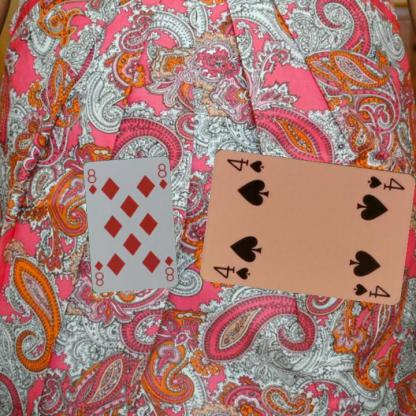4s: (365, 173, 406, 192), (211, 262, 252, 281)
8d: (85, 166, 98, 196), (162, 254, 175, 283)
